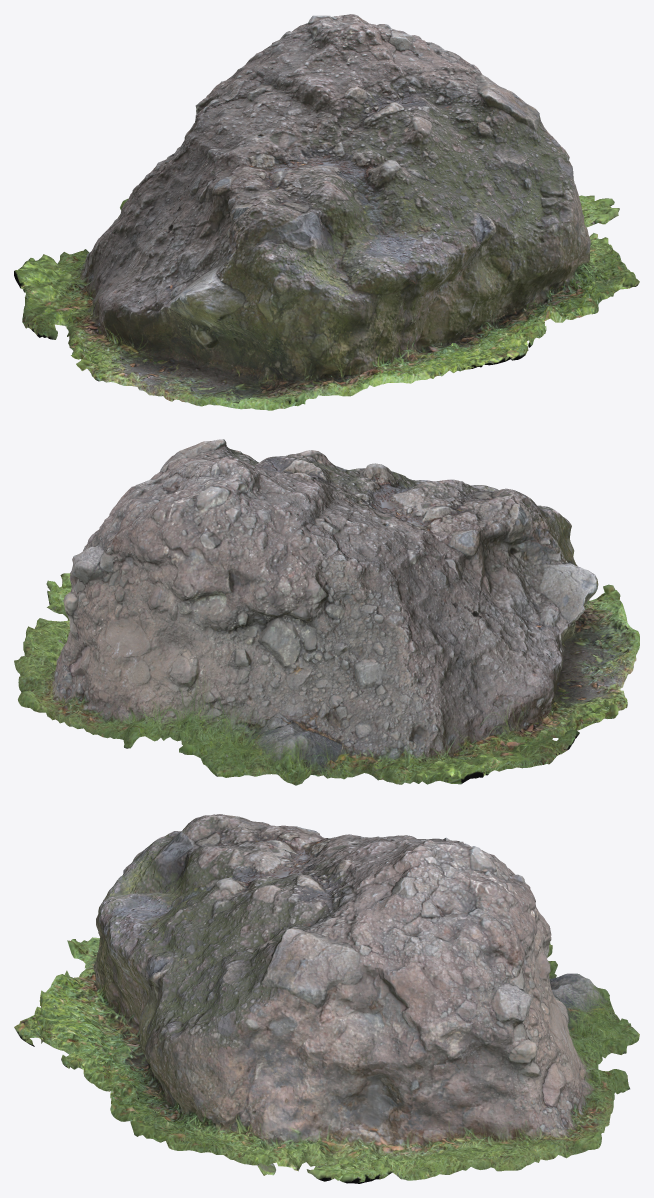
File: big_rock.glb
The picture shows the model from 3 angles, top to bottom: view 1: azimuth 30°, elevation 25°; view 2: azimuth 150°, elevation 25°; view 3: azimuth 270°, elevation 25°; orthographic projection. The views are drawn at different scales.
Visible parts, largest first — view 1: Object_2; view 2: Object_2; view 3: Object_2.
Part boxes in pixels (box(x1,y1,x2,y2)): Object_2: box(14, 14, 639, 410); Object_2: box(14, 439, 639, 785); Object_2: box(14, 814, 639, 1183).
Bounding box in the file's own units: 4.74 × 1.87 × 4.33.
Materials: 1 (1 with a texture image).
